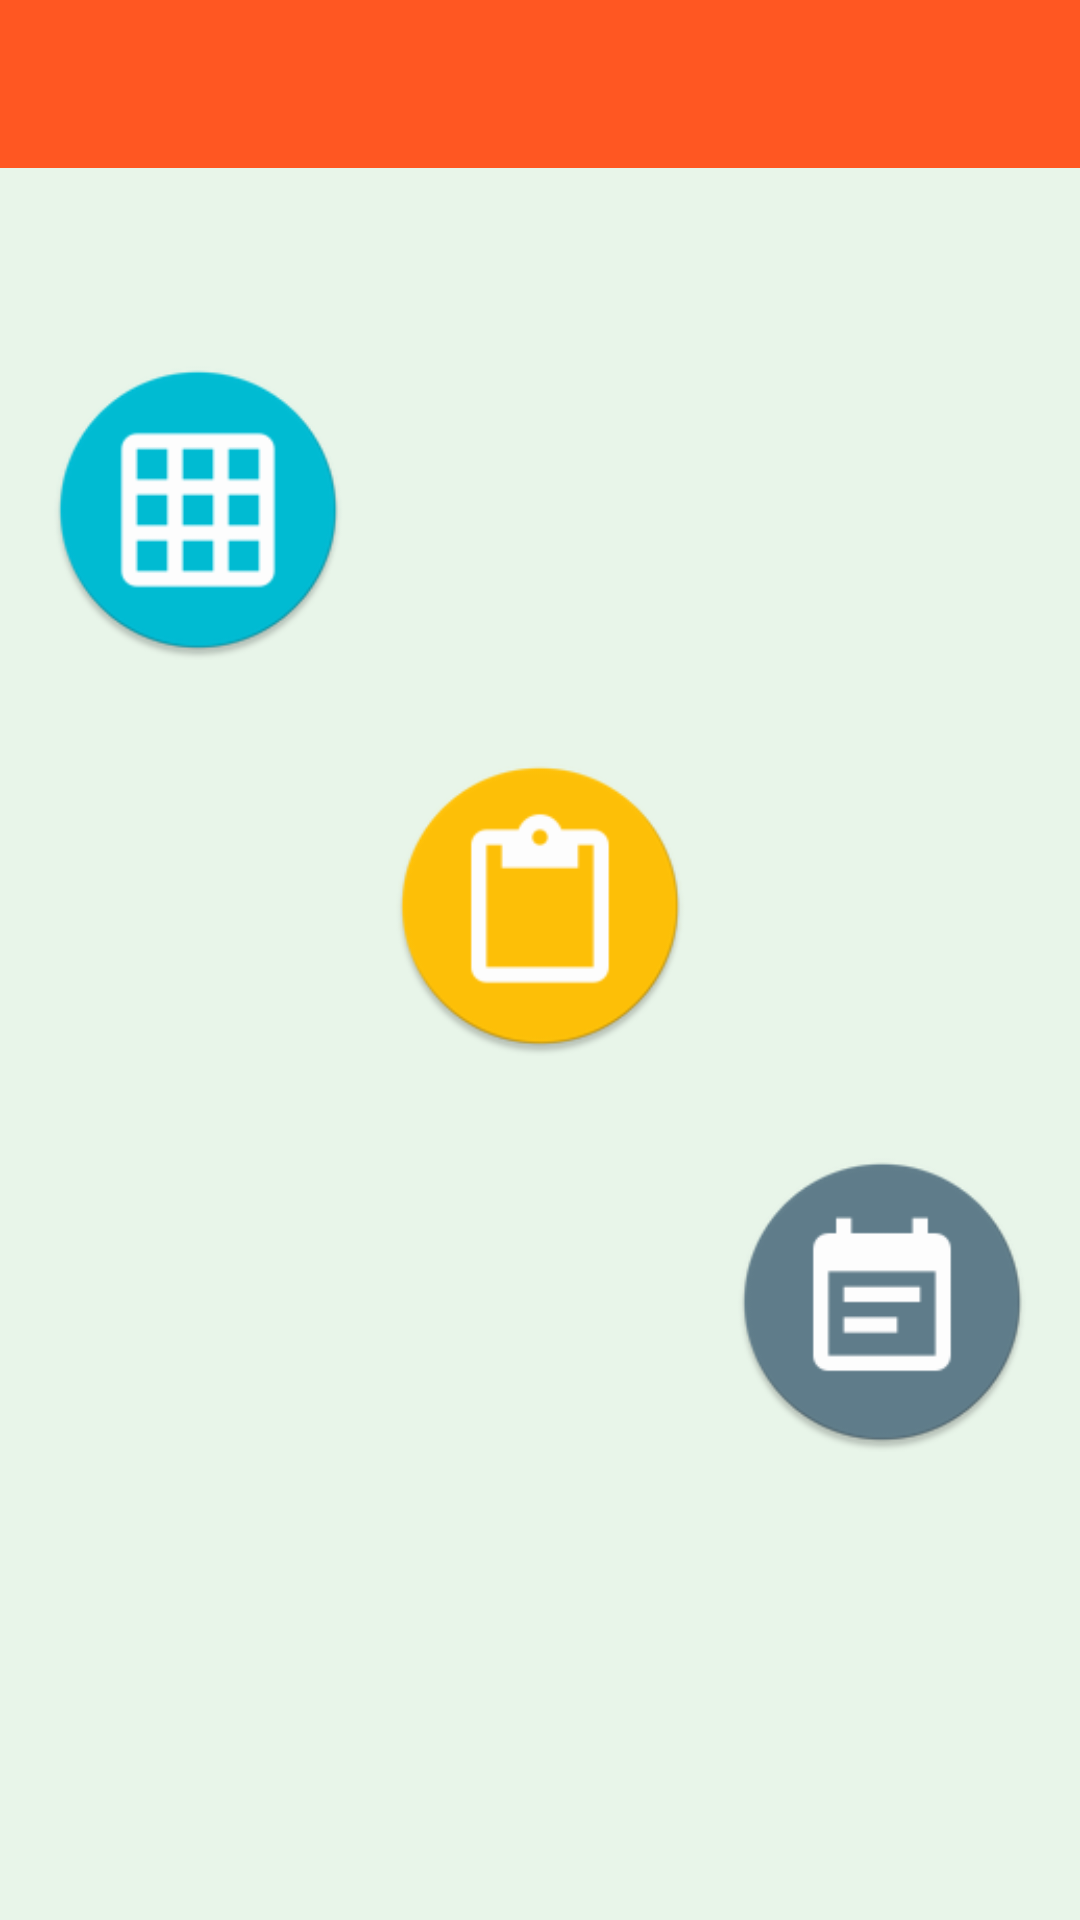

Point at icon controls on the screen. Image size 1080w x 1920h, points as (x=x, y=y).
notes imgg: (x=540, y=909)
